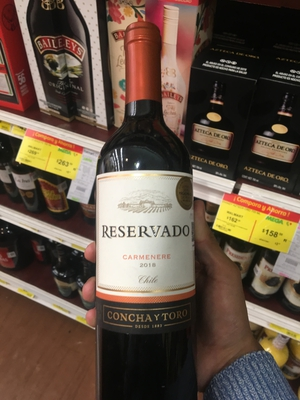reservado carmenere: (89, 23, 204, 400)
